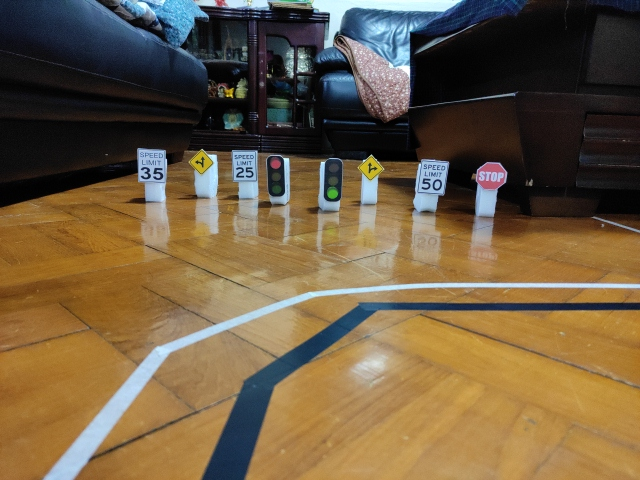Green Traffic Light: (324, 158, 342, 204)
Red Traffic Light: (266, 154, 286, 196)
Speed Limit 25: (231, 149, 258, 180)
Speed Limit 35: (136, 147, 166, 183)
Speed Limit 50: (416, 159, 448, 194)
Stop Sign: (477, 162, 507, 190)
Straight Or Left Sign: (188, 150, 214, 175)
Straight Or Right Sign: (358, 153, 385, 182)
